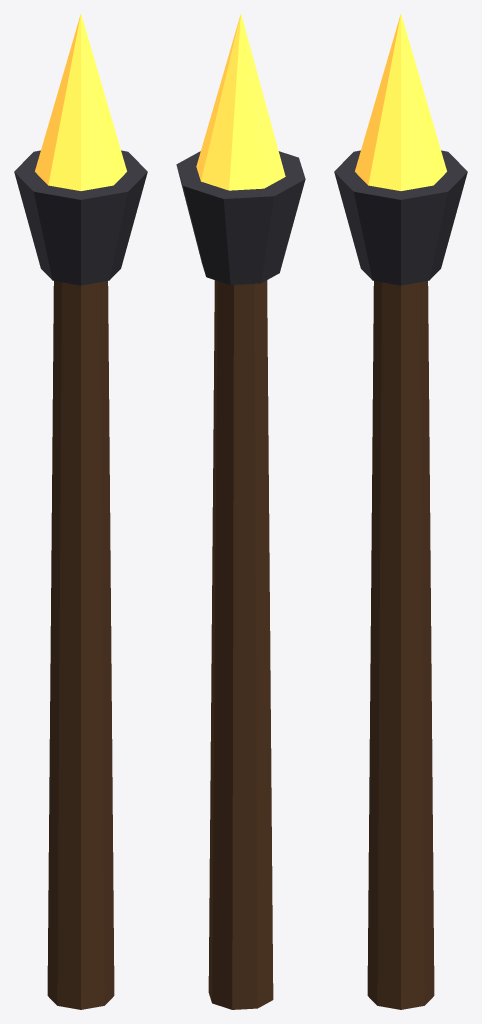
Rendered from prop_torch.glb.
The picture shows the model from 3 angles, left to right: view 1: azimuth 90°, elevation 25°; view 2: azimuth 210°, elevation 25°; view 3: azimuth 270°, elevation 25°; orthographic projection.
Parts seen in each view (by area): view 1: post, cup, flame; view 2: post, cup, flame; view 3: post, cup, flame.
Boxes of the visible parts, x1=… form: post: x1=47, y1=281, x2=114, y2=1009; cup: x1=14, y1=150, x2=147, y2=285; flame: x1=35, y1=14, x2=126, y2=190; post: x1=208, y1=280, x2=273, y2=1009; cup: x1=176, y1=151, x2=305, y2=284; flame: x1=196, y1=14, x2=285, y2=190; post: x1=367, y1=281, x2=434, y2=1009; cup: x1=334, y1=150, x2=467, y2=285; flame: x1=355, y1=14, x2=446, y2=190.
Bounding box in the file's own units: 0.2 × 1.62 × 0.2.
